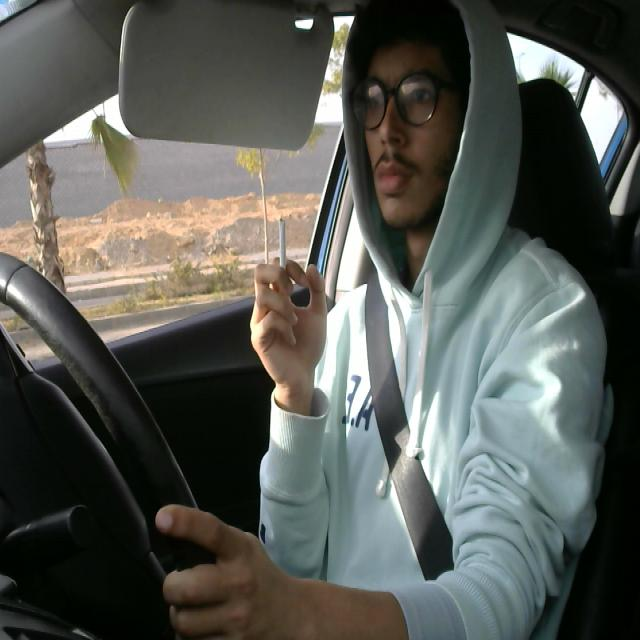smoking: (274, 210, 292, 304)
